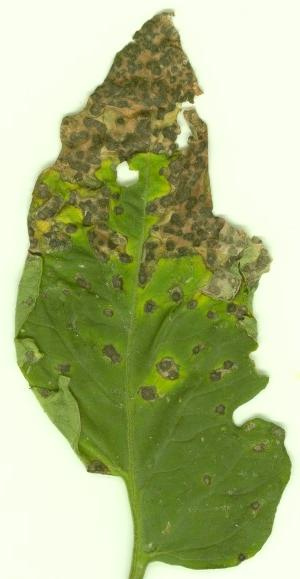Tomato Septoria leaf spot: (11, 7, 283, 579)
